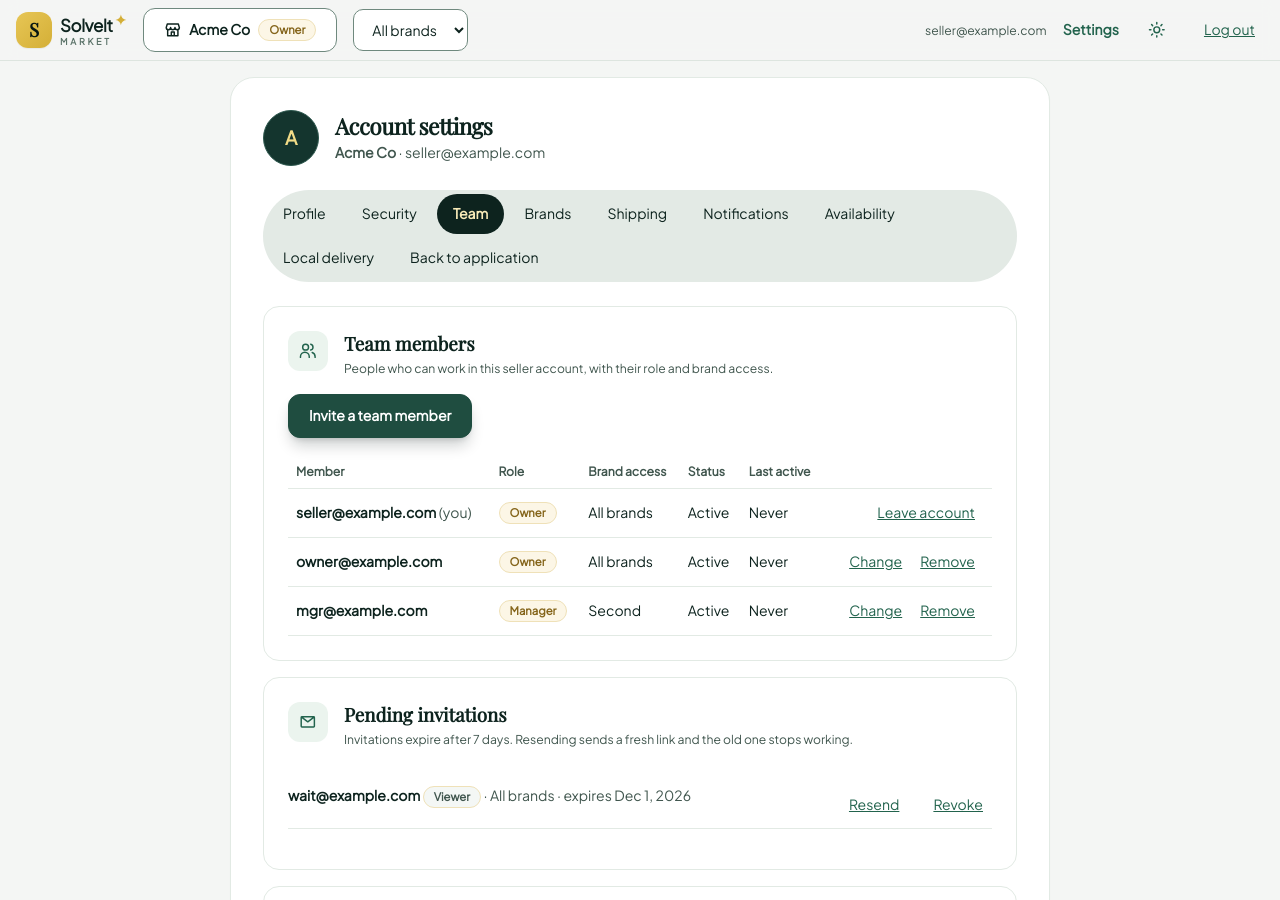
Test: Team page › resends and revokes pending invitations; shows the server message when the account would lose its last Owner
The image size is (1280, 900).
Click the button named "Resend invitation to wait@example.com": (874, 804) [840,788,908,820]
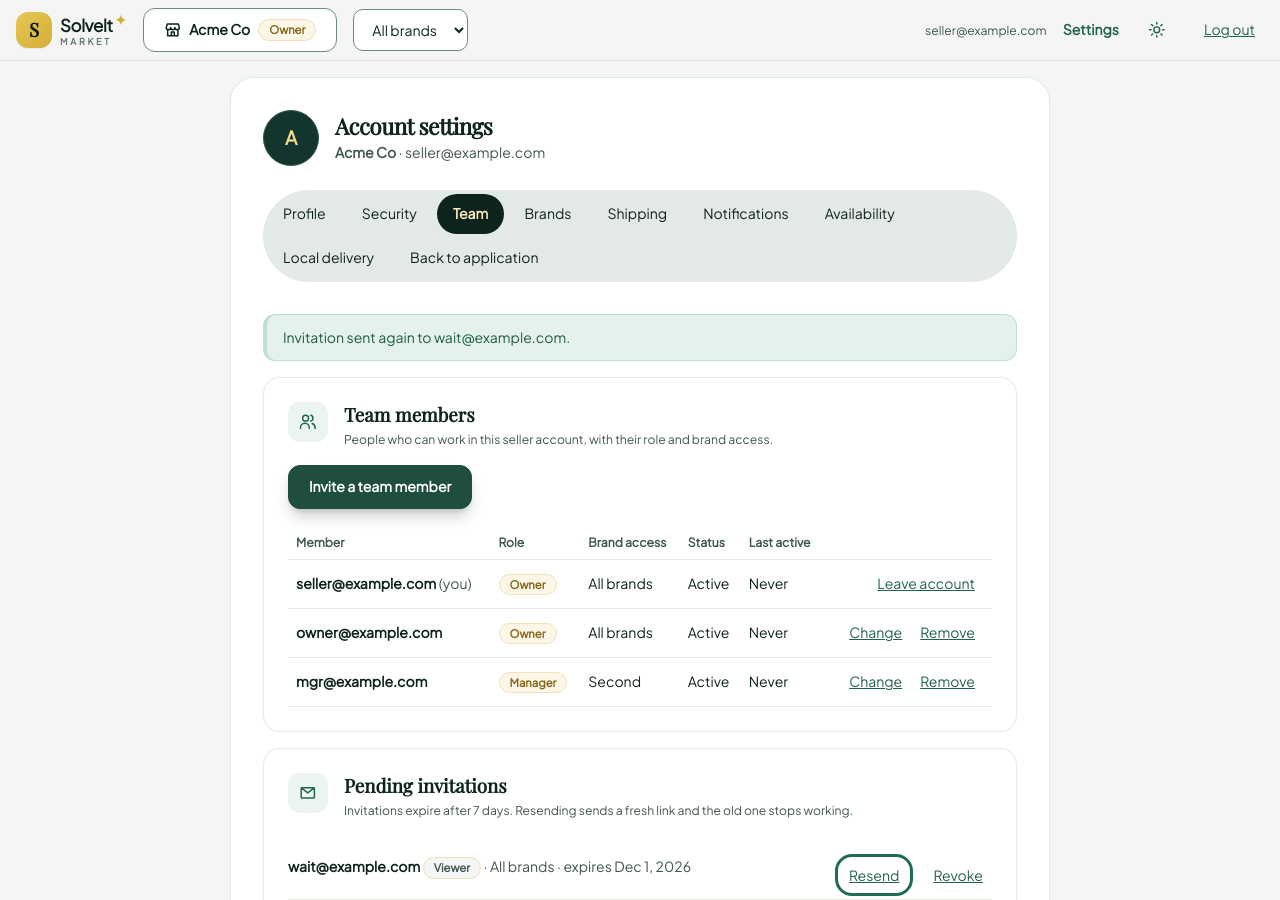
Click the button named "Revoke invitation to wait@example.com": (958, 875) [924,859,992,891]
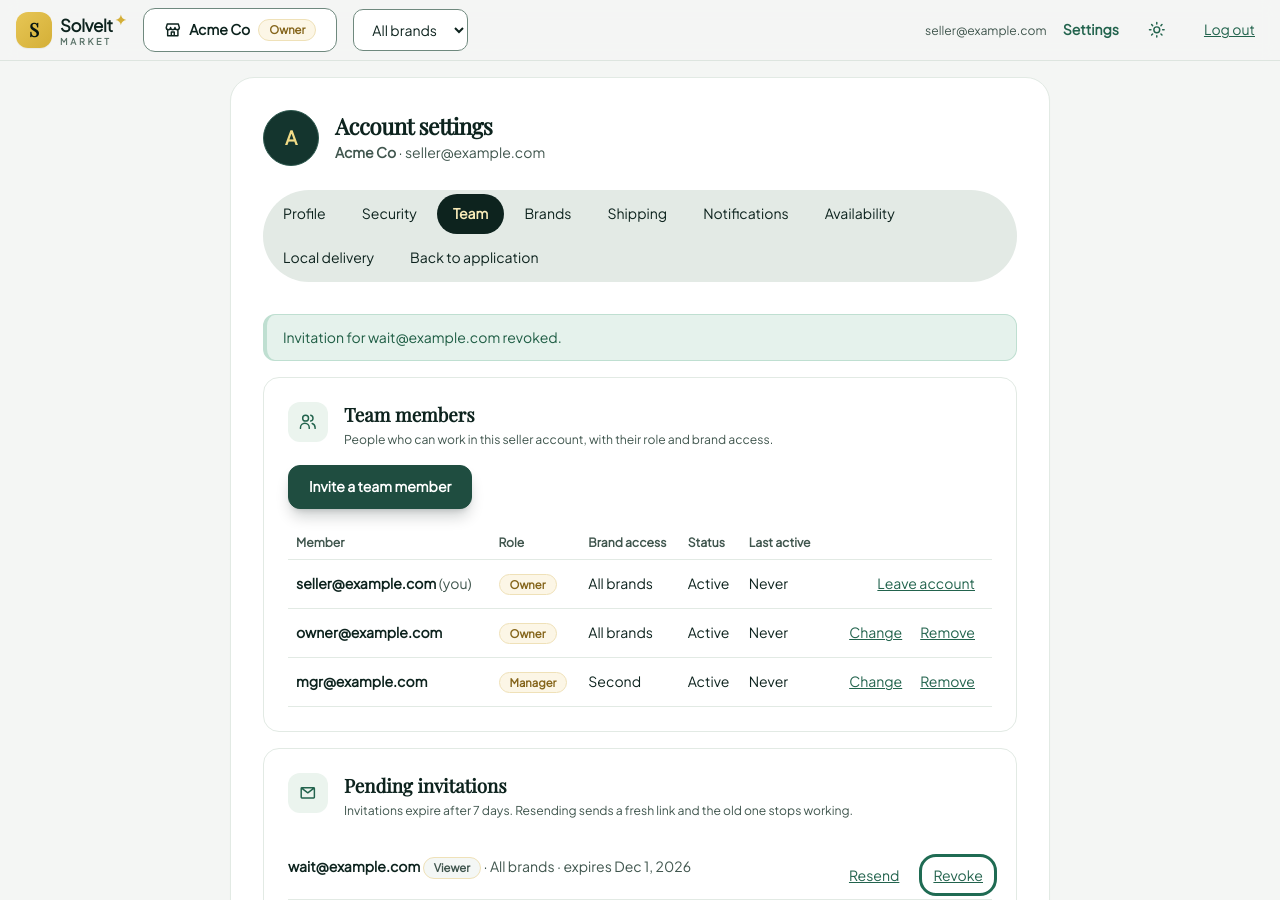
Click the button "Leave account": (926, 584) [868,568,984,600]
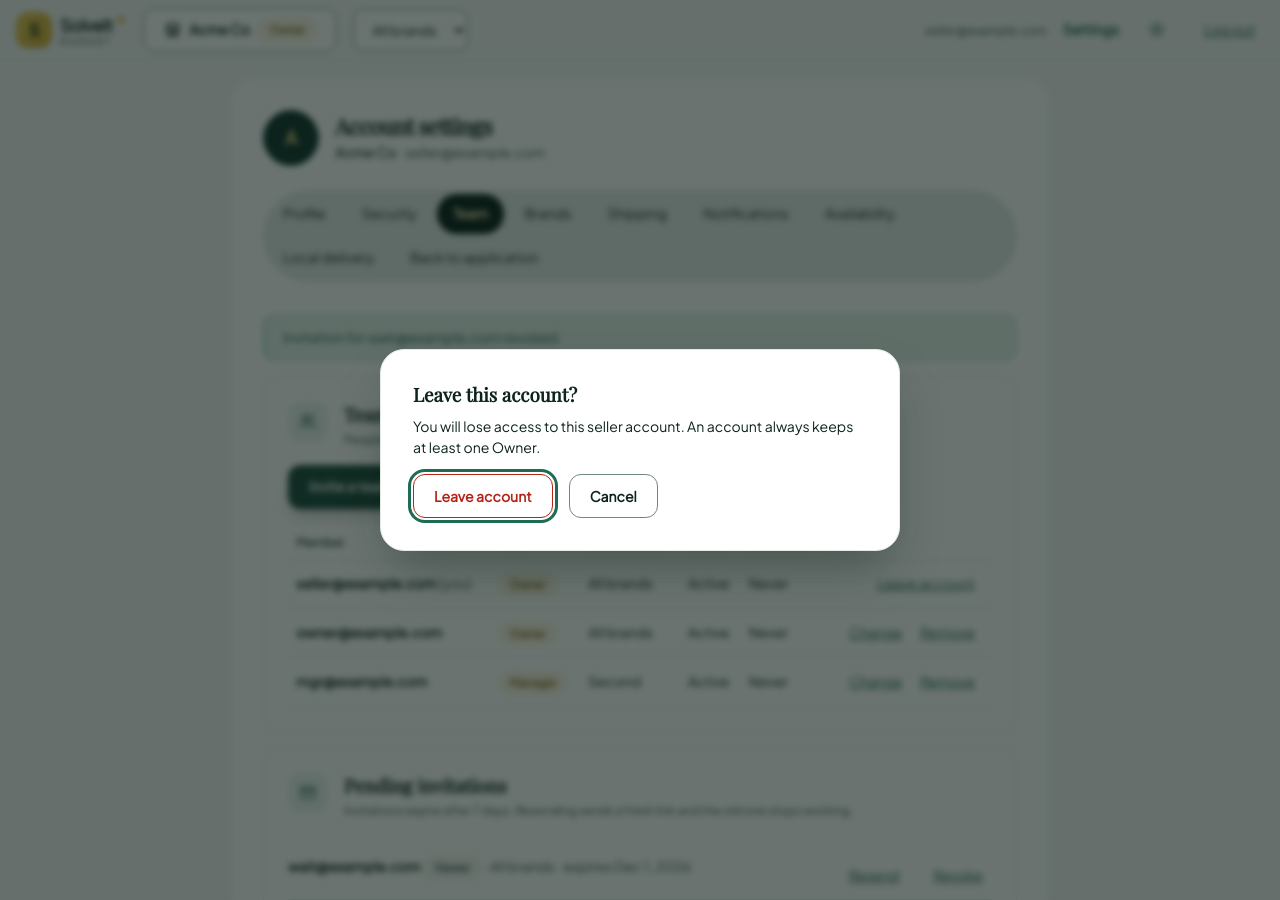
Click the button "Leave account": (483, 496) [413,474,553,518]
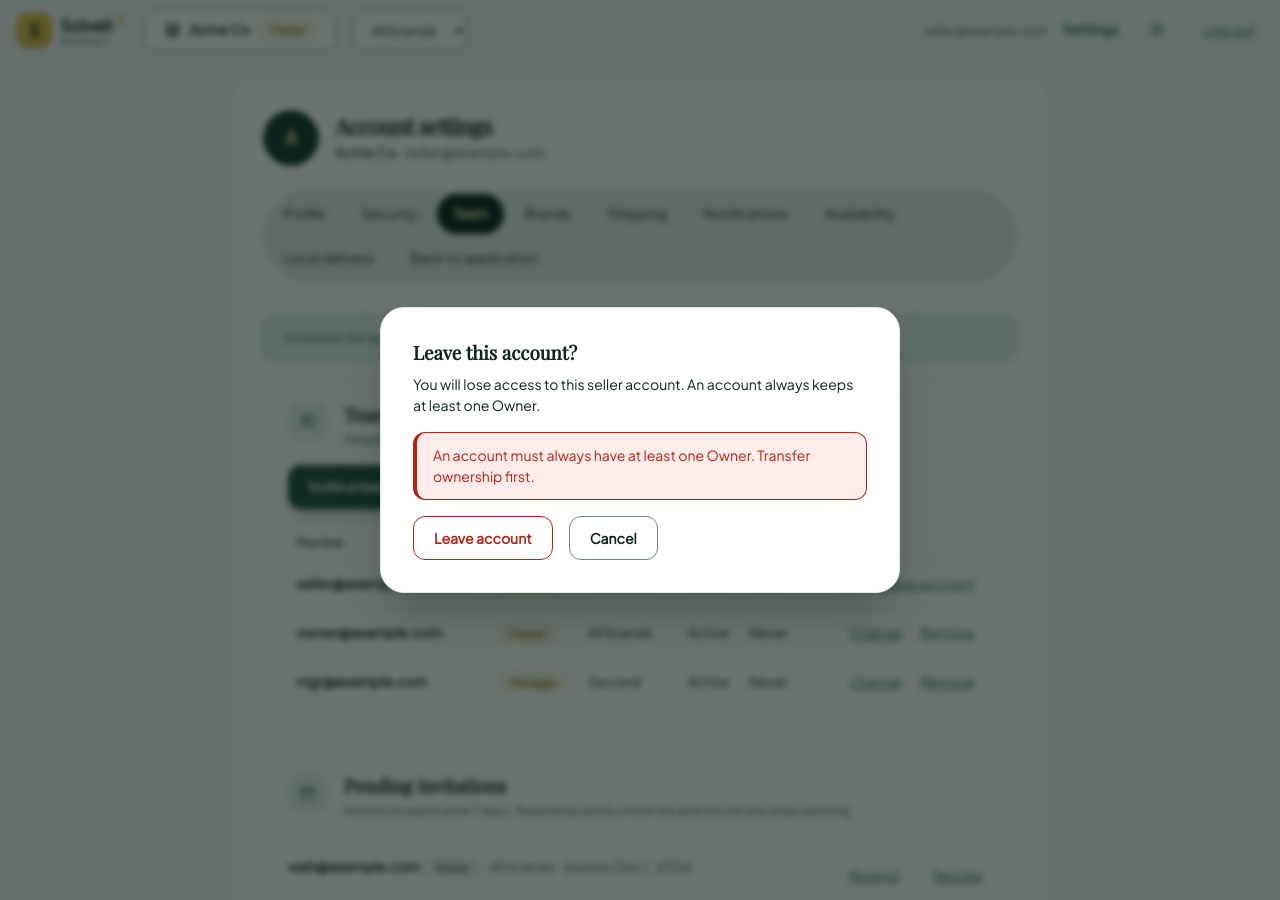
Expected: the text "An account must always have at least one Owner. Transfer ownership first." is shown, [413,432,867,500]
